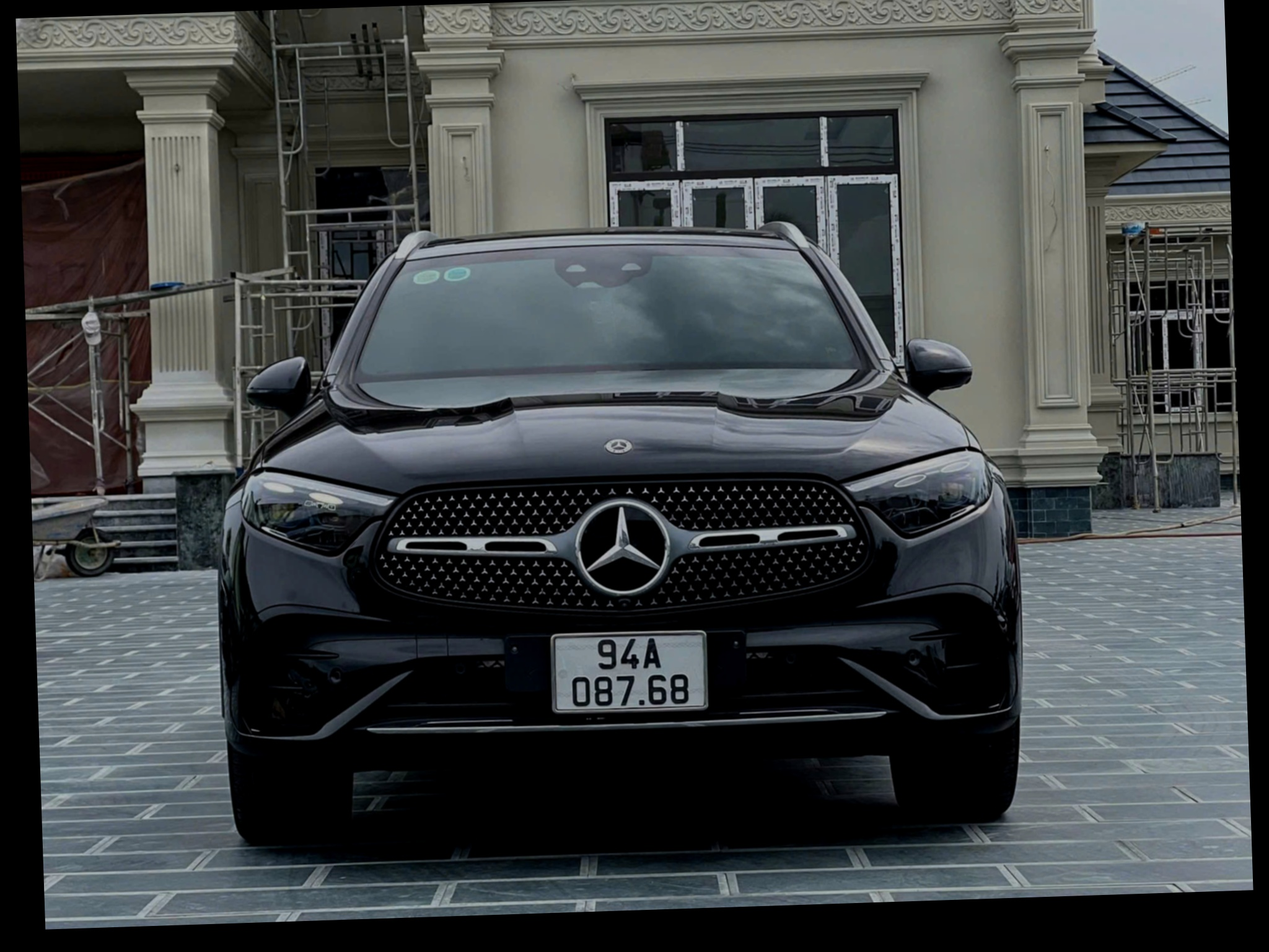Bien-so: (538, 642, 716, 746)
